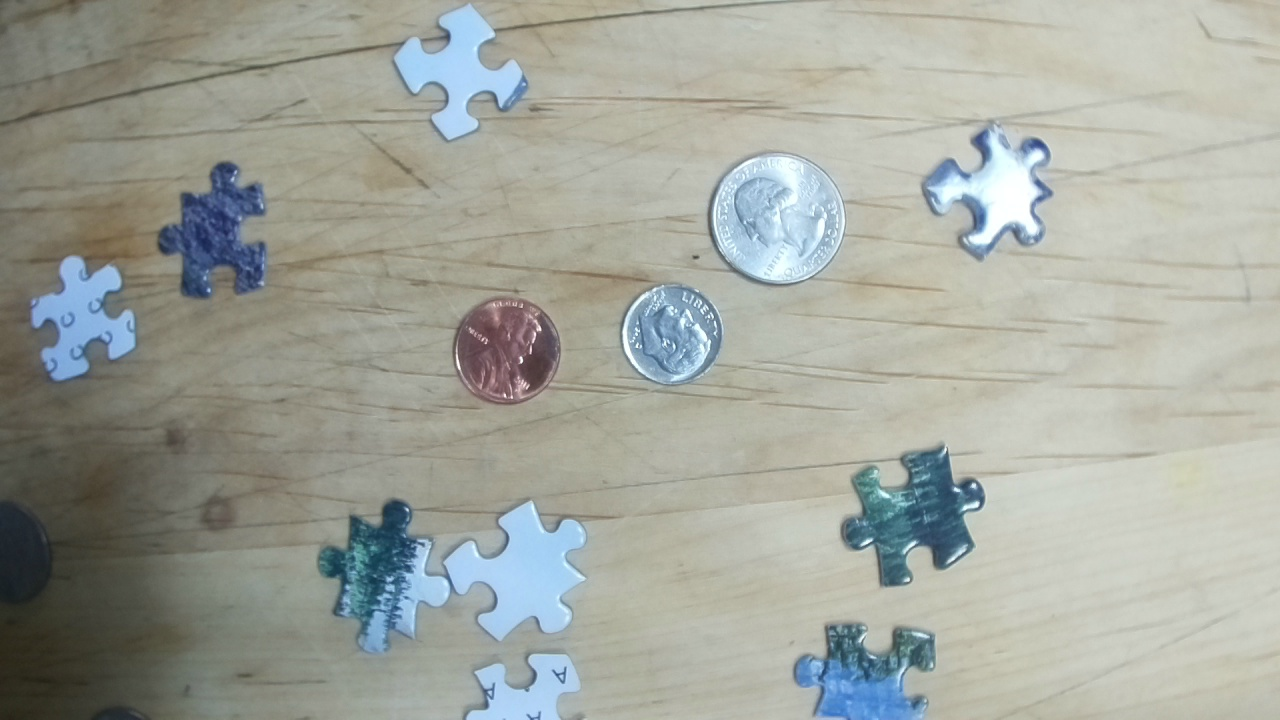dime: (619, 284, 724, 388)
penny: (448, 296, 562, 404)
quarter: (707, 152, 848, 286)
